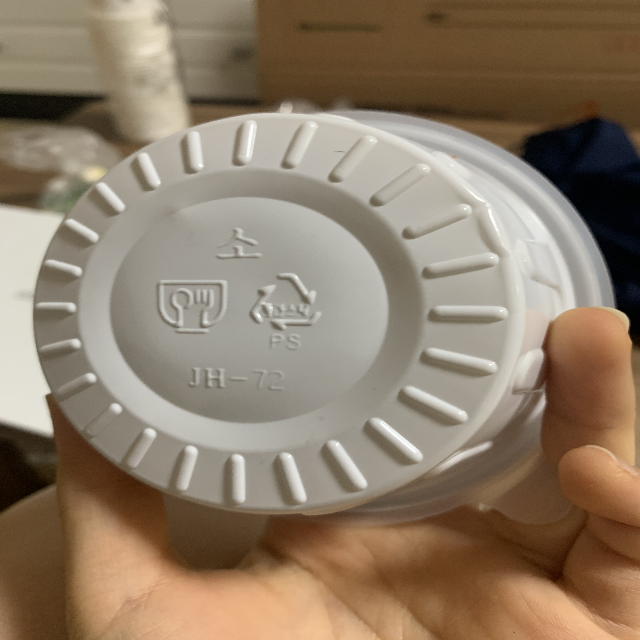ps: (247, 267, 331, 351)
